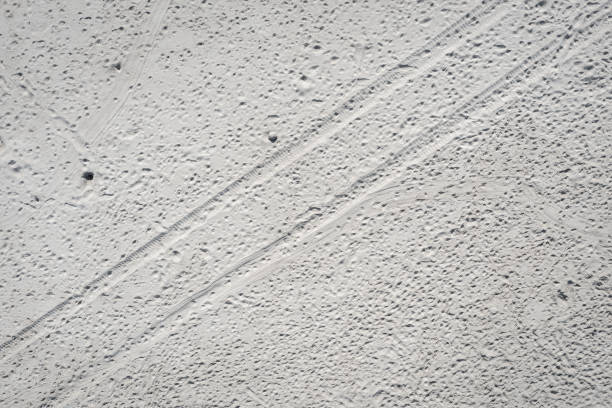vehicle_track: (0, 0, 504, 350), (135, 31, 566, 341)
